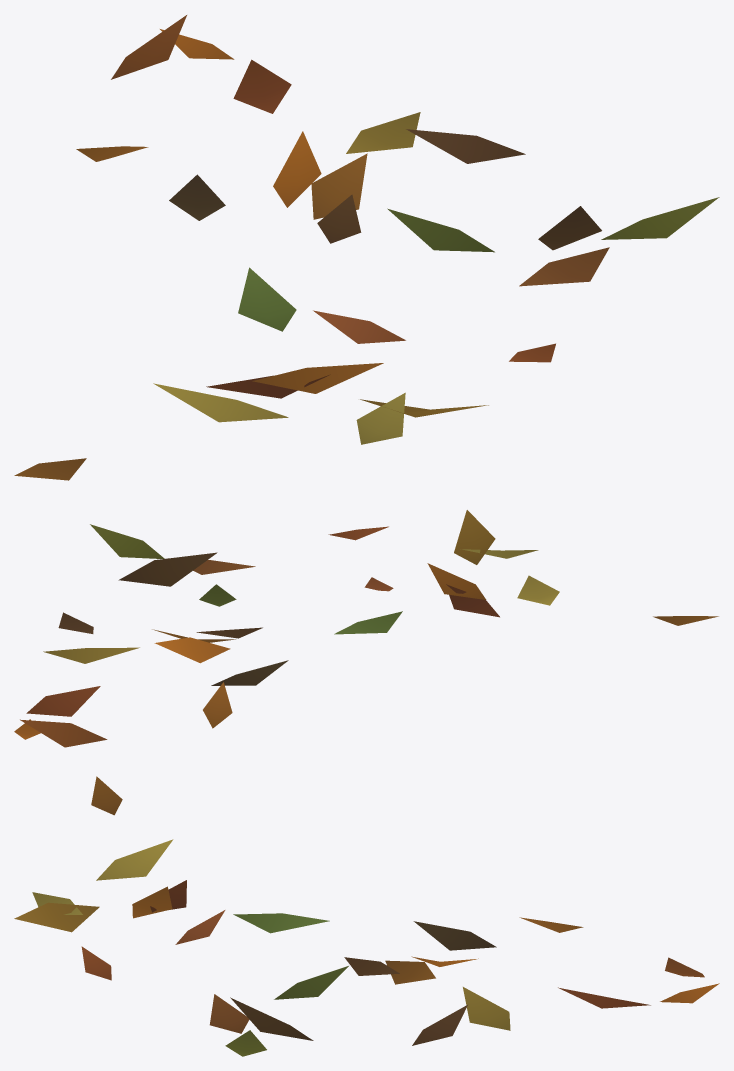
The model's file is litter-autumn-a.lod2.glb.
3 views of the same model, one above another, from view 1: azimuth 30°, elevation 25°; view 2: azimuth 150°, elevation 25°; view 3: azimuth 270°, elevation 25° (orthographic). The views are drawn at different scales.
Bounding box in the file's own units: 1.77 × 0.0978 × 1.84.
